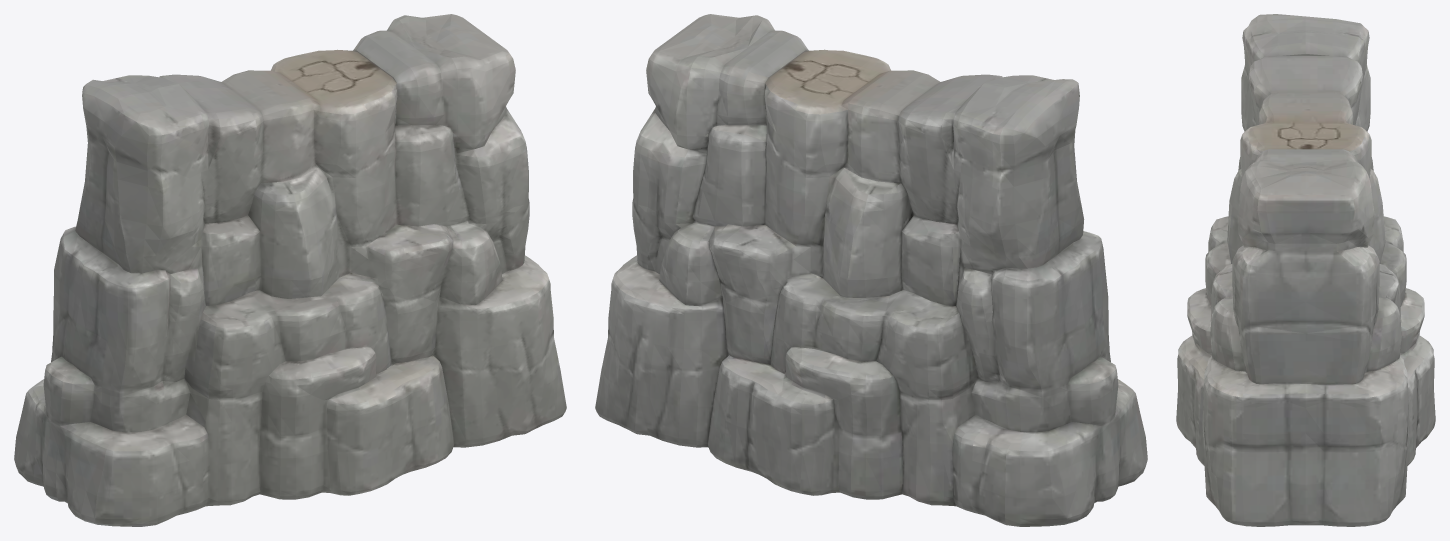
The model's file is stepped-stone-wall.glb.
3 views of the same model, side by side, from view 1: azimuth 30°, elevation 25°; view 2: azimuth 150°, elevation 25°; view 3: azimuth 270°, elevation 25° (orthographic). The views are drawn at different scales.
Bounding box in the file's own units: 1.91 × 1.46 × 1.01.
1 material, 1 textured.
